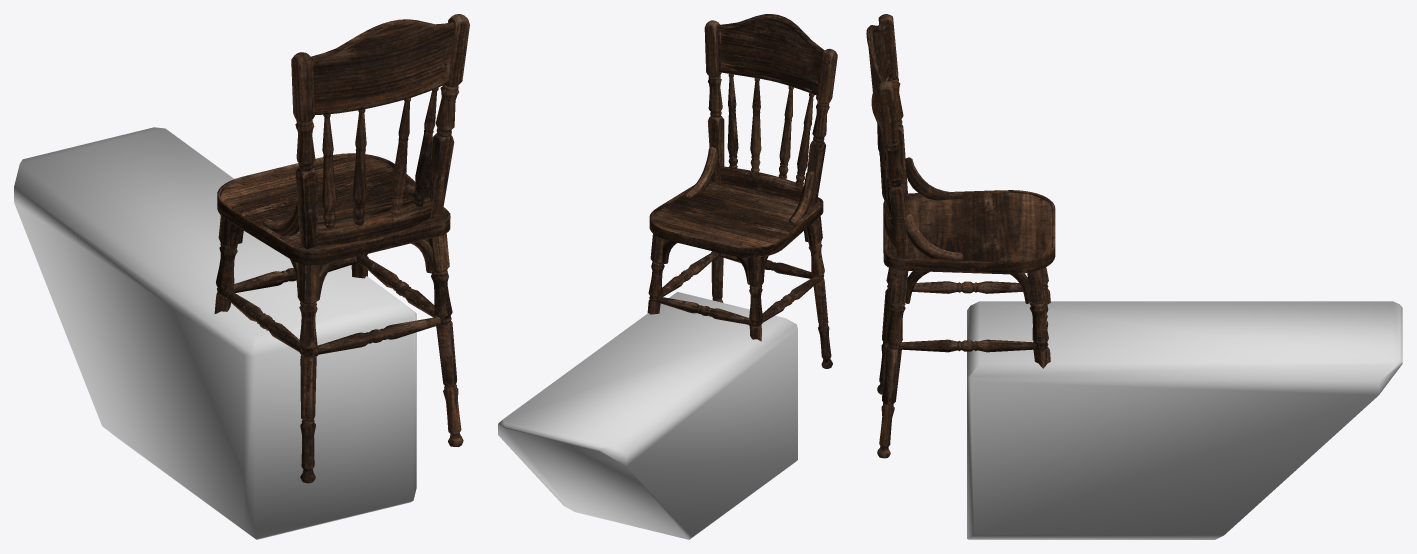
The model's file is SM_Chair.fbx.
3 views of the same model, side by side, from view 1: azimuth 30°, elevation 25°; view 2: azimuth 150°, elevation 25°; view 3: azimuth 270°, elevation 25° (orthographic). The views are drawn at different scales.
Parts seen in each view (by area): view 1: SM_Chair_ConvexHulls, SM_Chair; view 2: SM_Chair_ConvexHulls, SM_Chair; view 3: SM_Chair_ConvexHulls, SM_Chair.
Part boxes in pixels (x1,y1,x2,y2): SM_Chair_ConvexHulls: (14,127,416,539); SM_Chair: (214,14,469,483); SM_Chair_ConvexHulls: (498,292,797,539); SM_Chair: (647,14,837,368); SM_Chair_ConvexHulls: (967,301,1402,539); SM_Chair: (866,14,1055,458).
Size of the model in its own units: 0.455 by 1.37 by 1.39.
